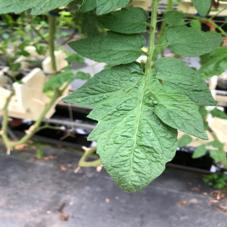Healthy: (64, 55, 216, 194), (66, 32, 148, 64), (165, 24, 225, 56)
